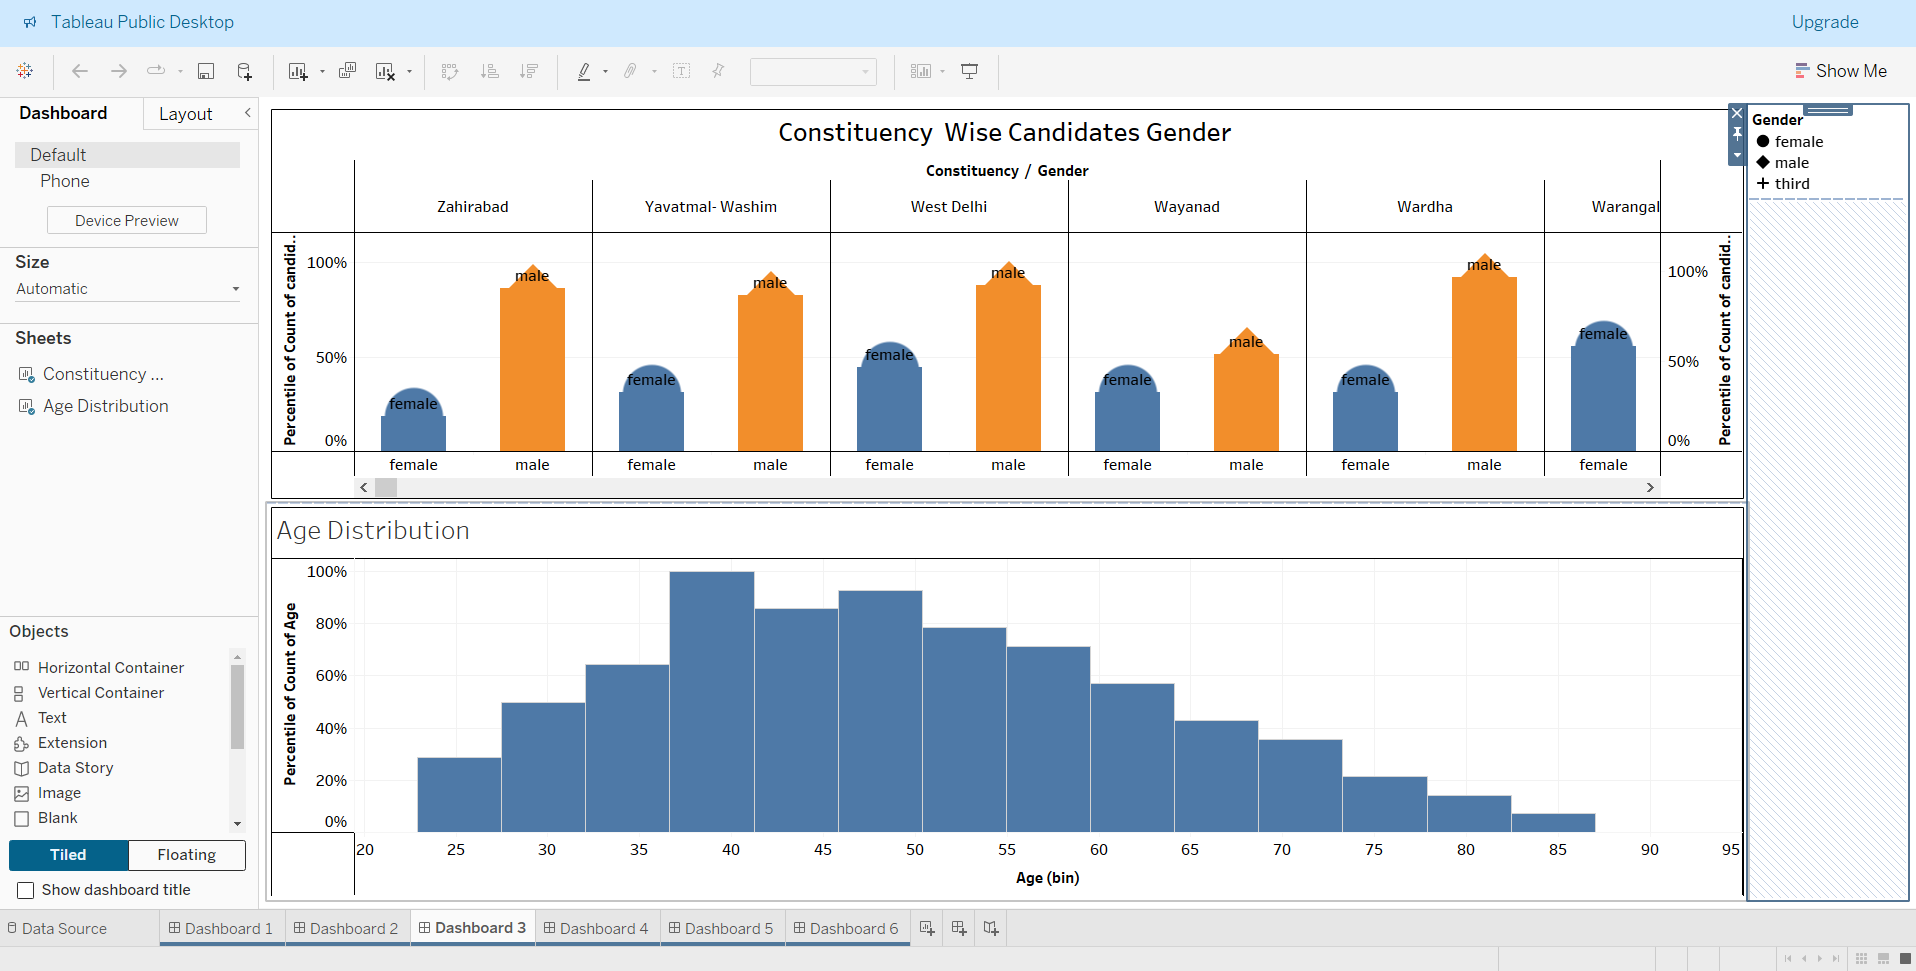

What the dashboard file says about the page in this screenshot:
{"tool":"tableau","page":{"name":"Dashboard 3","canvas":[1000,1000],"units":"permille","ordinal":2},"visuals":[{"type":"worksheet","title":"Constituency Wise Candidates Gender","mark":"Automatic","rows":["candidates_with_phase.csv_C992D556A43F4B8B84253AFABFDA9860","candidates_with_phase.csv_C992D556A43F4B8B84253AFABFDA9860"],"cols":["Constituency","Gender"],"box":[5,9.9,890.1,490.1]},{"type":"legend","title":"Constituency Wise Candidates Gender","param":"[federated.1t4udp21838psq18mbp35021r6ej].[none:Gender:nk]","box":[895.1,9.9,99.9,114.7]},{"type":"worksheet","title":"Age Distribution","mark":"Automatic","rows":["Age"],"cols":["Age (bin)"],"box":[5,500,890.1,490.1]}]}

Visuals, with their boxes on the dashboard's canvas, which has no fixed pixel size, in thousandths of its width and height (x1, y1, x2, y2). These are canvas units, not pixel positions in the 1916x971 screenshot, which may show the page scaled, cropped or inside an application window:
"Constituency Wise Candidates Gender" worksheet: [5,10,895,500]
"Constituency Wise Candidates Gender" legend: [895,10,995,125]
"Age Distribution" worksheet: [5,500,895,990]
